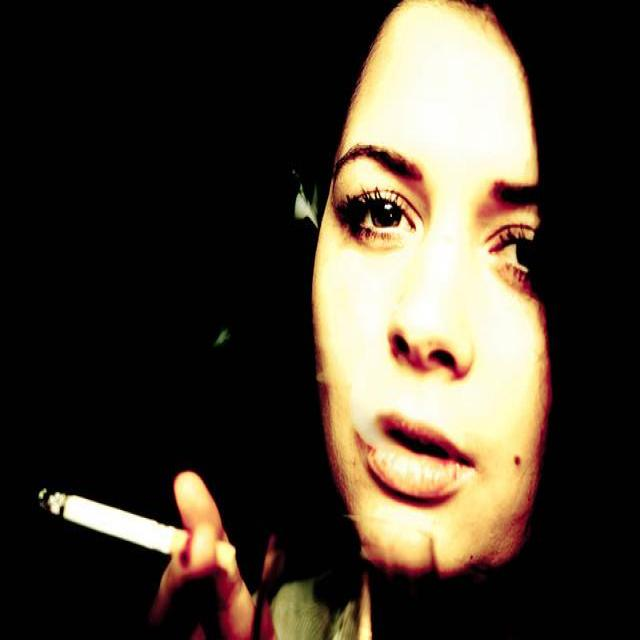Сигарета: (38, 488, 236, 578)
Тело: (156, 1, 566, 640)
